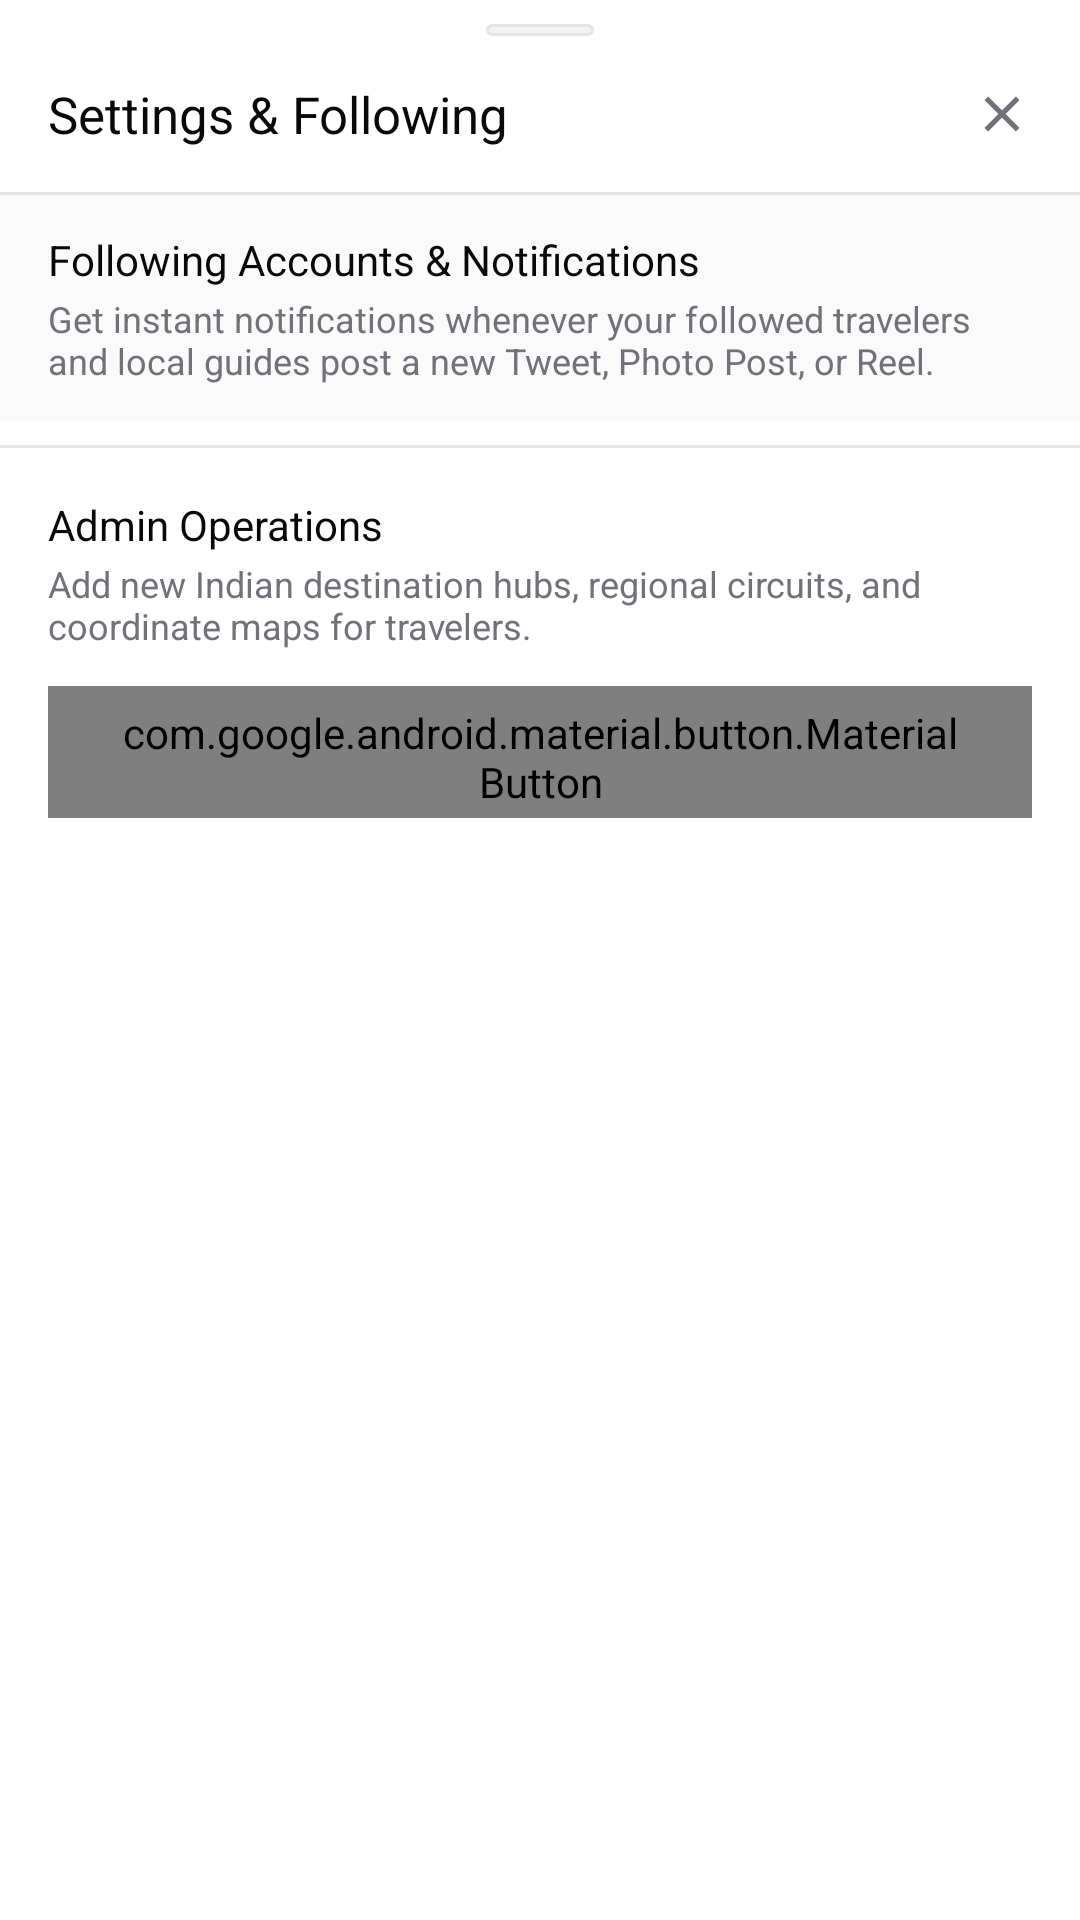

Icons on this 1080 × 1920 Android screen, each with the point to tap as [x,y]:
Close: [1002,114]
